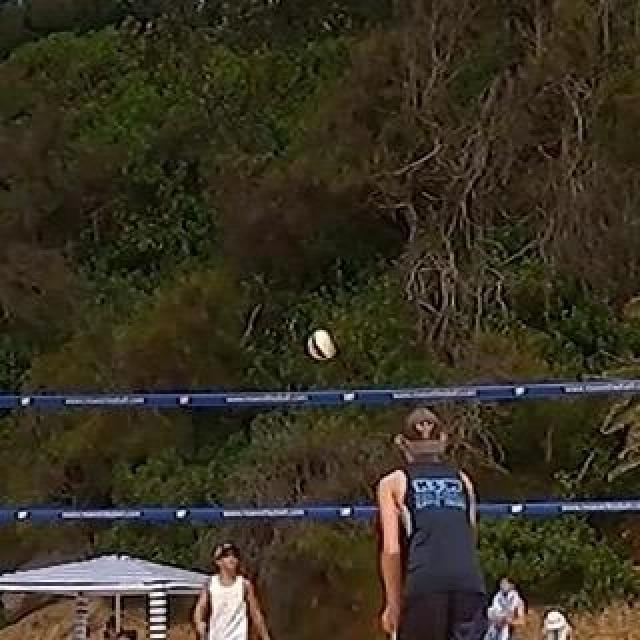volleyball: (308, 330, 338, 360)
